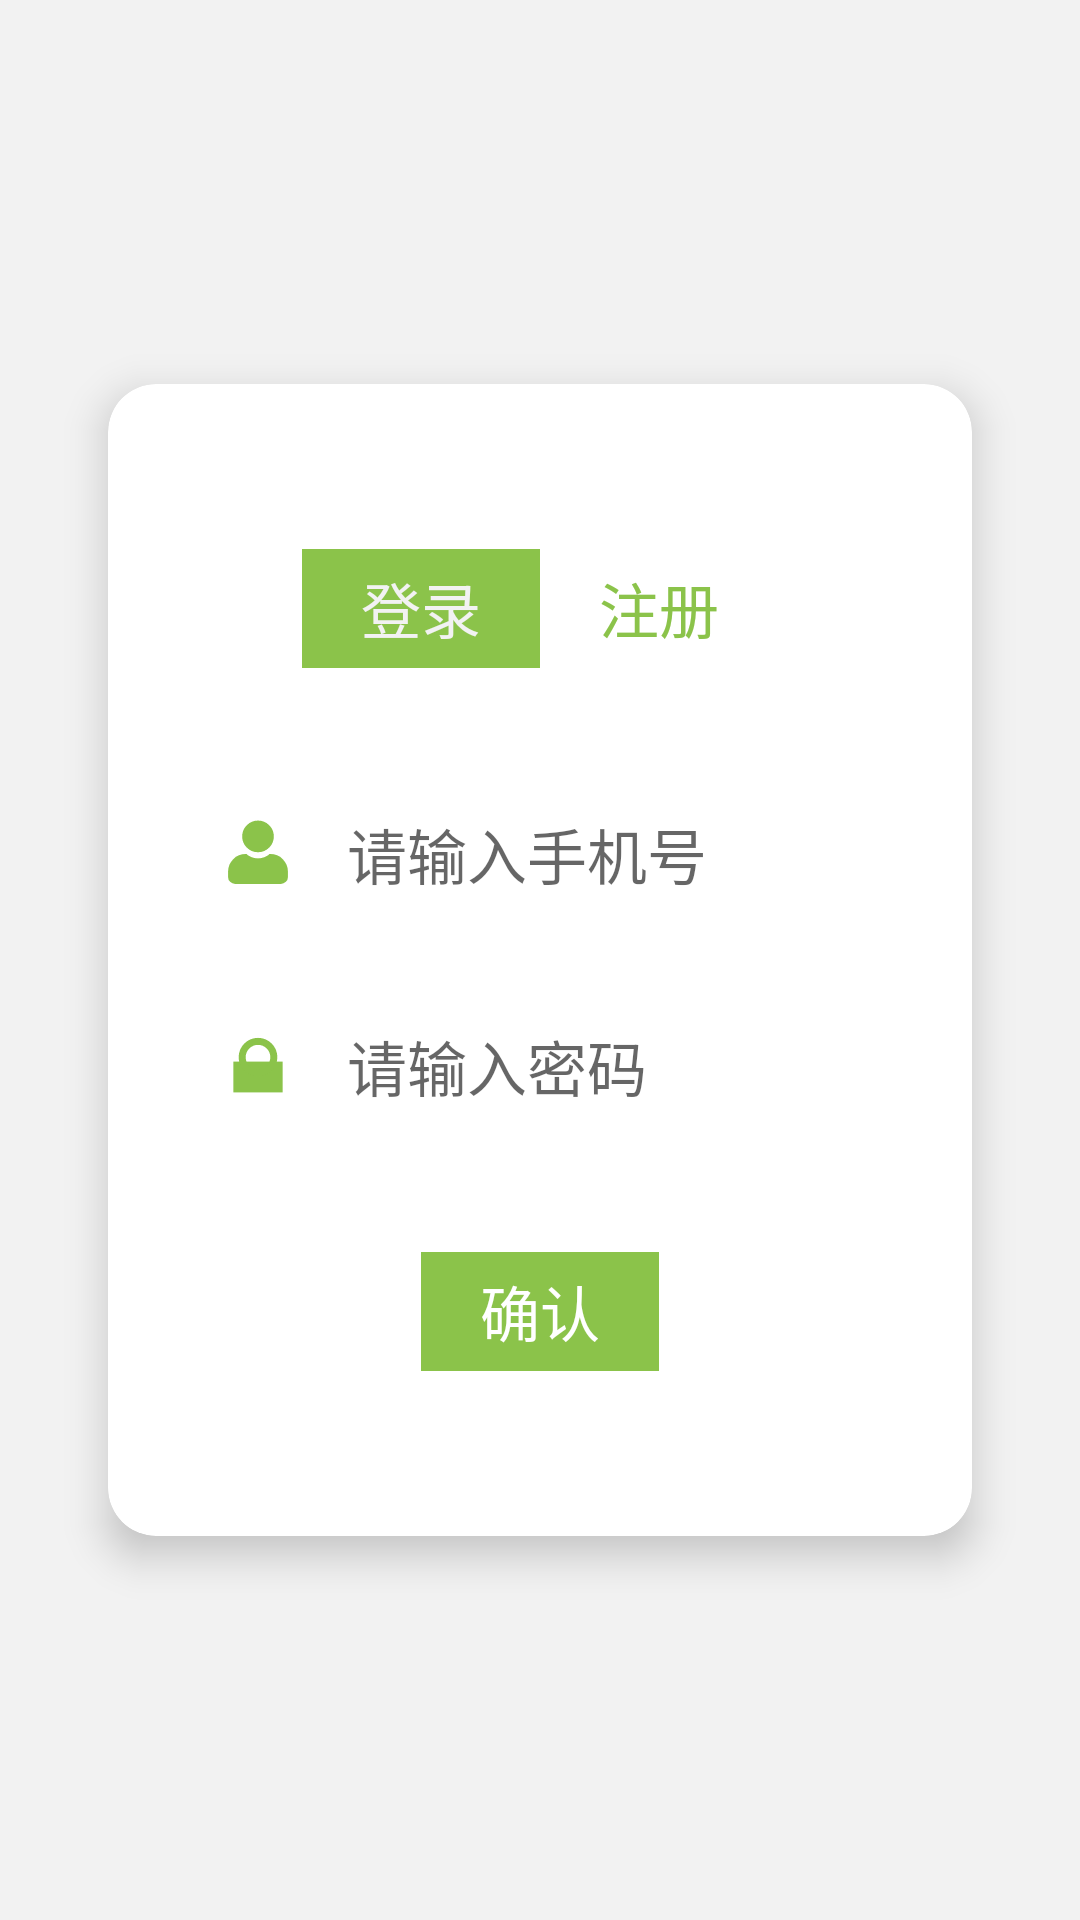

Where to tap for icons on this 1080x1920 app screen, as [x,y]:
activity login password: [258,1065]
activity login username: [258,852]
